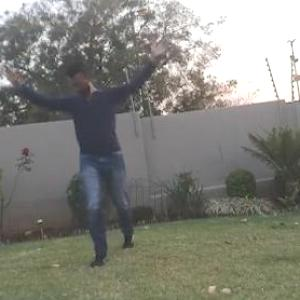takeoff: (1, 35, 168, 261)
